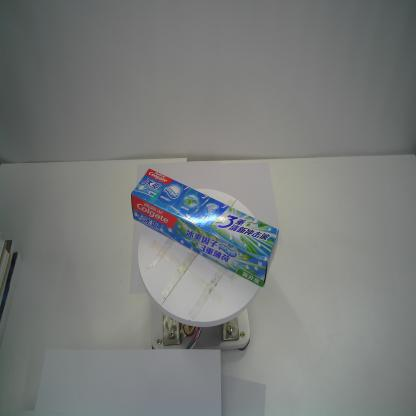Personal Hygiene: (130, 167, 280, 287)
